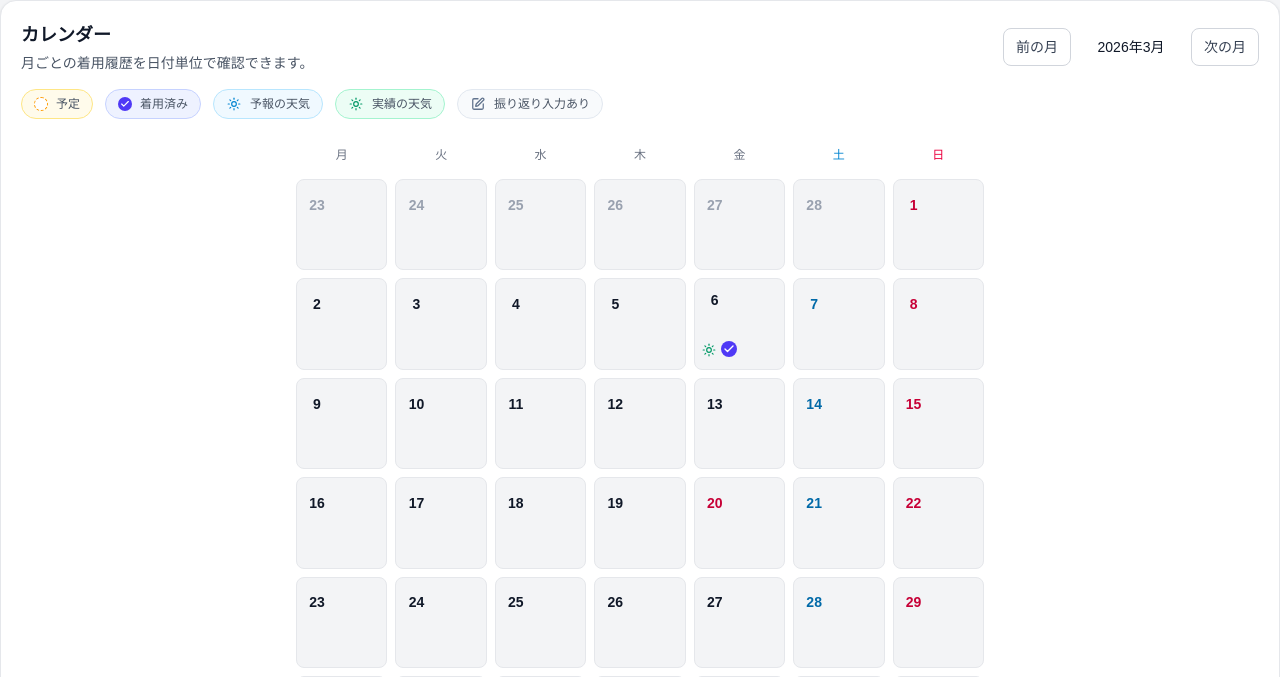
Test case: WearLogCalendar › 日付詳細モーダルで複数天気のバッジと内容を確認できる
The width and height of the screenshot is (1280, 677).
Click the button "6" at {"x": 739, "y": 324}, box [694, 278, 785, 370]
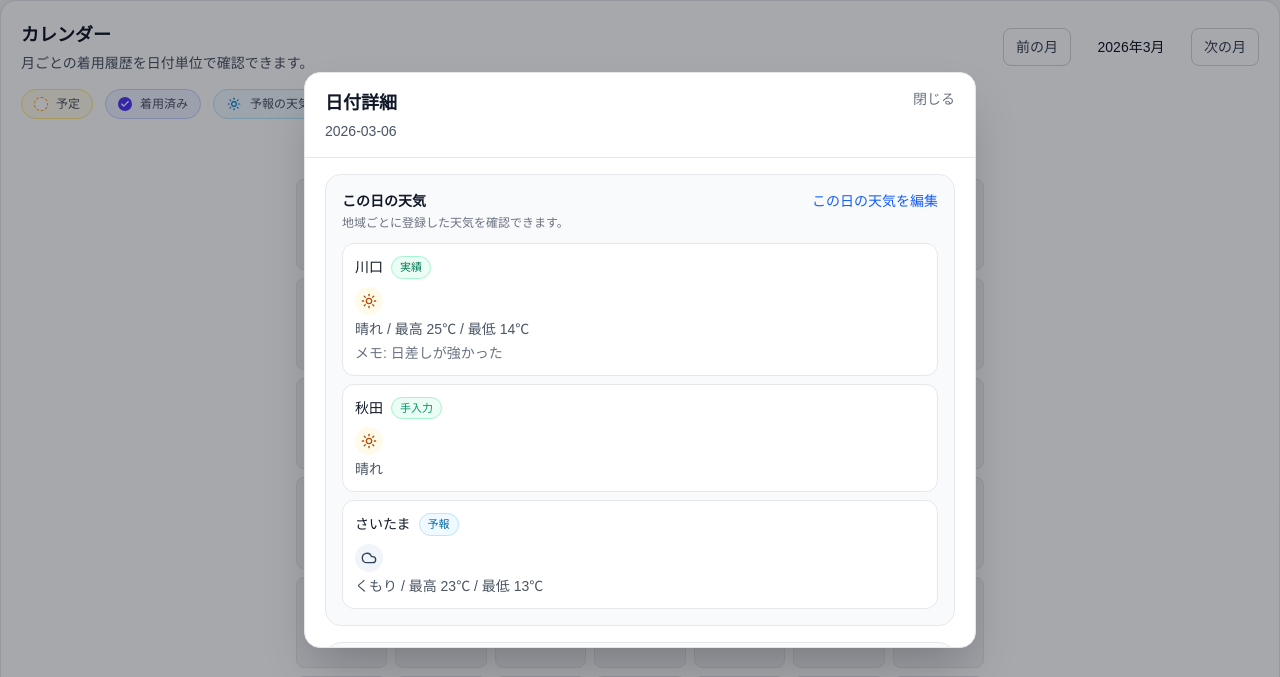
Expected: the text "この日の天気" is shown, [342, 193, 426, 209]
Expected: the text "さいたま" is shown, [355, 514, 411, 534]
Expected: the text "川口" is shown, [355, 257, 383, 277]
